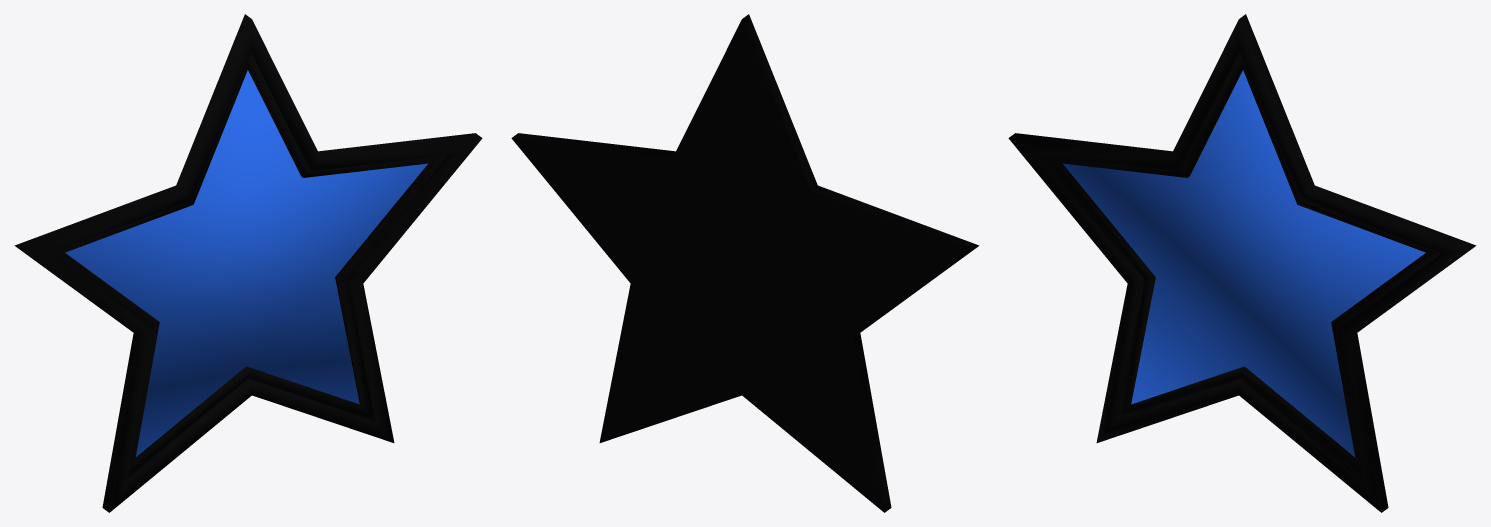
File: STAR.dae
3 renders of one model, left to right at view 1: azimuth 30°, elevation 25°; view 2: azimuth 150°, elevation 25°; view 3: azimuth 330°, elevation 25°, orthographic.
Parts seen in each view (by area): view 1: Circle; view 2: Circle; view 3: Circle.
Part boxes in pixels (x1,y1,x2,y2): Circle: [14, 14, 482, 512]; Circle: [511, 14, 979, 512]; Circle: [1008, 14, 1476, 512].
Size of the model in its own units: 1.9 by 0.05 by 1.81.
